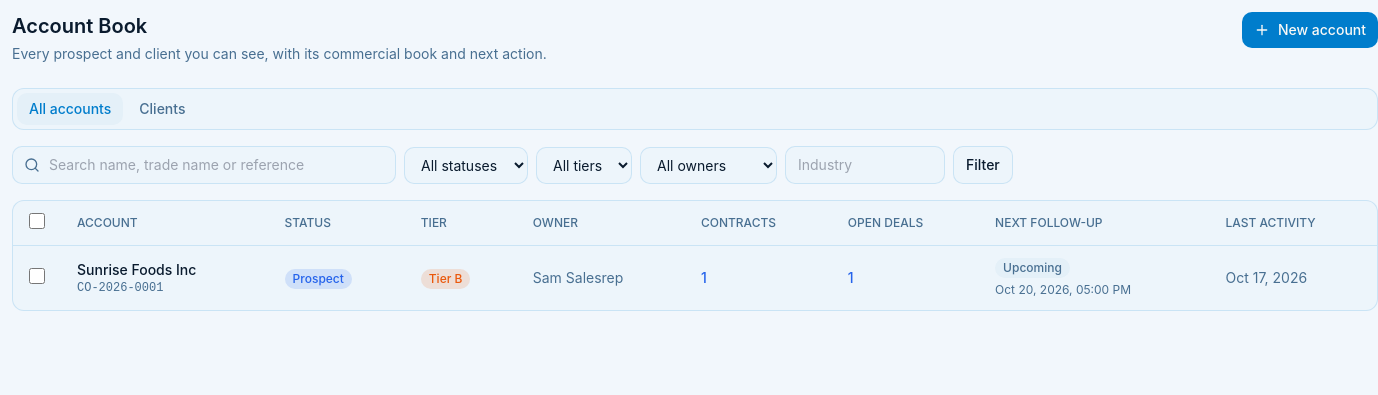
Test case: Companies list › bulk assigns the selected accounts to one owner
Expected: the link "Sunrise Foods Inc" is shown, [77,261,196,278]
Click the checkbox named "Select company-1" at (37, 276), box [29,268,45,284]
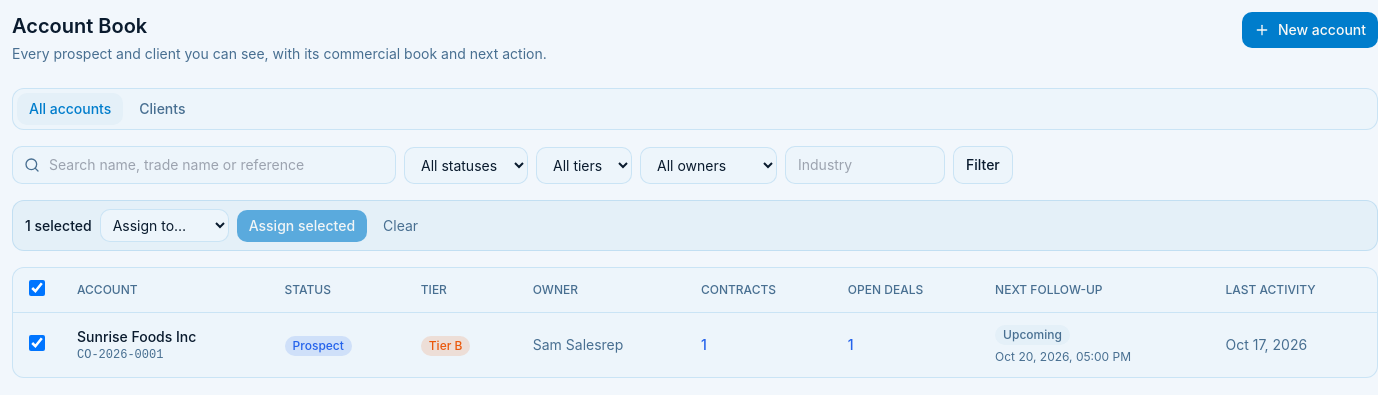
Select "Liza Lopez" in the dropdown named "Assign selected accounts to" at (164, 226), box [100,209,229,242]
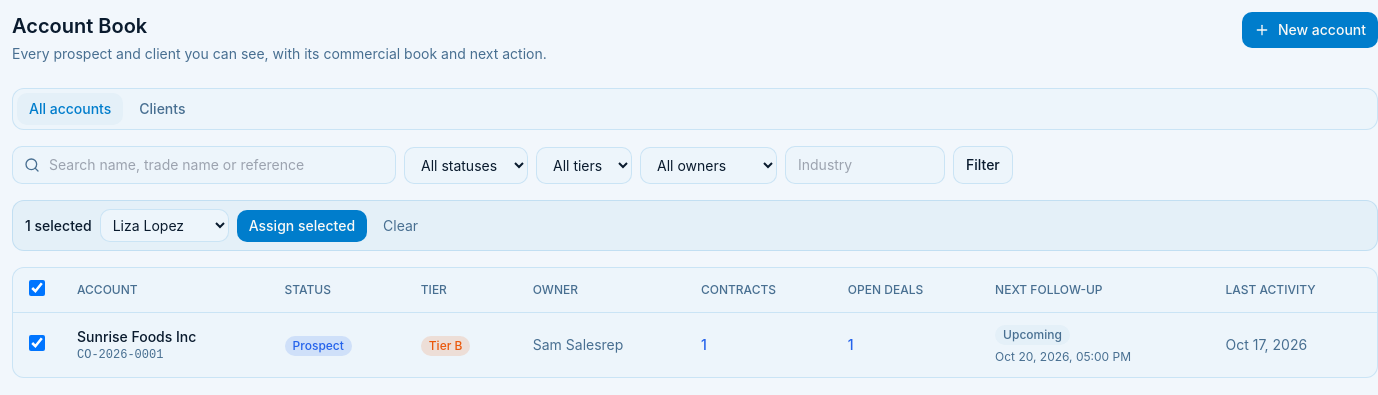
Click the button "Assign selected" at (302, 226), box [237,210,367,242]
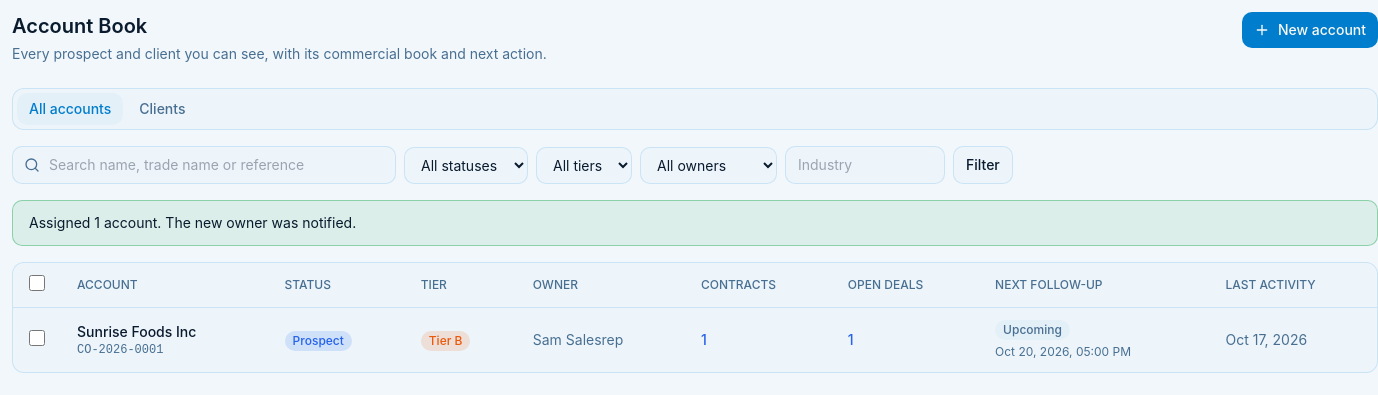
Result: the text "Assigned 1 account. The new owner was notified." is shown at [29,214,356,231]
